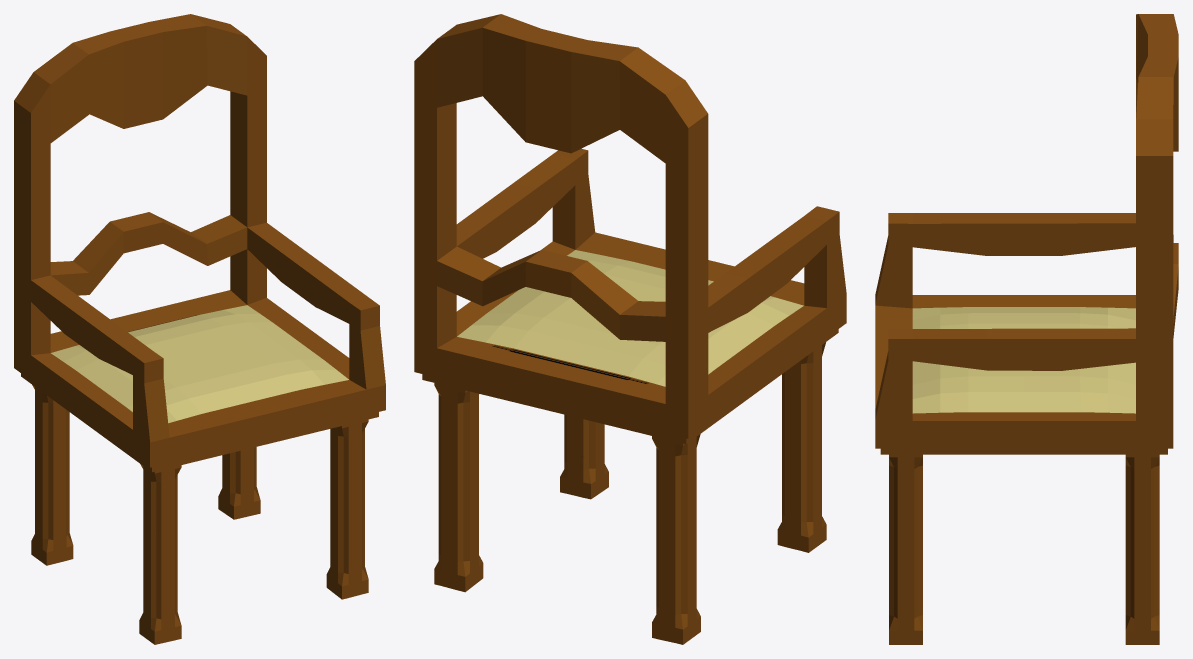
Rendered from low_poly_old-style_wood_chair_2.glb.
3 renders of one model, left to right at view 1: azimuth 30°, elevation 25°; view 2: azimuth 150°, elevation 25°; view 3: azimuth 270°, elevation 25°, orthographic. The views are drawn at different scales.
Parts seen in each view (by area): view 1: Cube_0; view 2: Cube_0; view 3: Cube_0.
Boxes of the visible parts, x1,y1,x2,y2 form: Cube_0: (14, 14, 385, 644); Cube_0: (414, 14, 846, 644); Cube_0: (875, 14, 1178, 644).
Size of the model in its own units: 1.5 by 3.01 by 1.53.
1 material, 1 textured.
